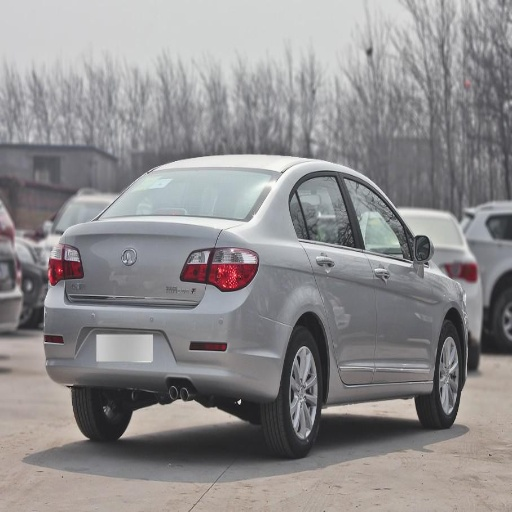back_bumper: (41, 283, 292, 401)
back_right_door: (294, 171, 375, 386)
tailgate: (62, 216, 220, 279)
trunk: (49, 230, 220, 326)
